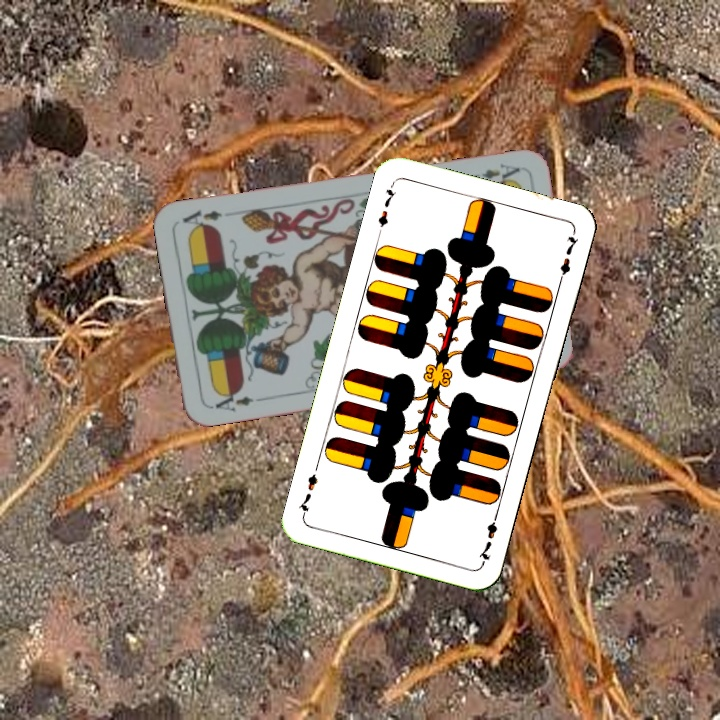E7: (474, 508, 501, 566), (374, 180, 399, 230)
EA: (205, 386, 256, 414), (478, 159, 523, 187)
